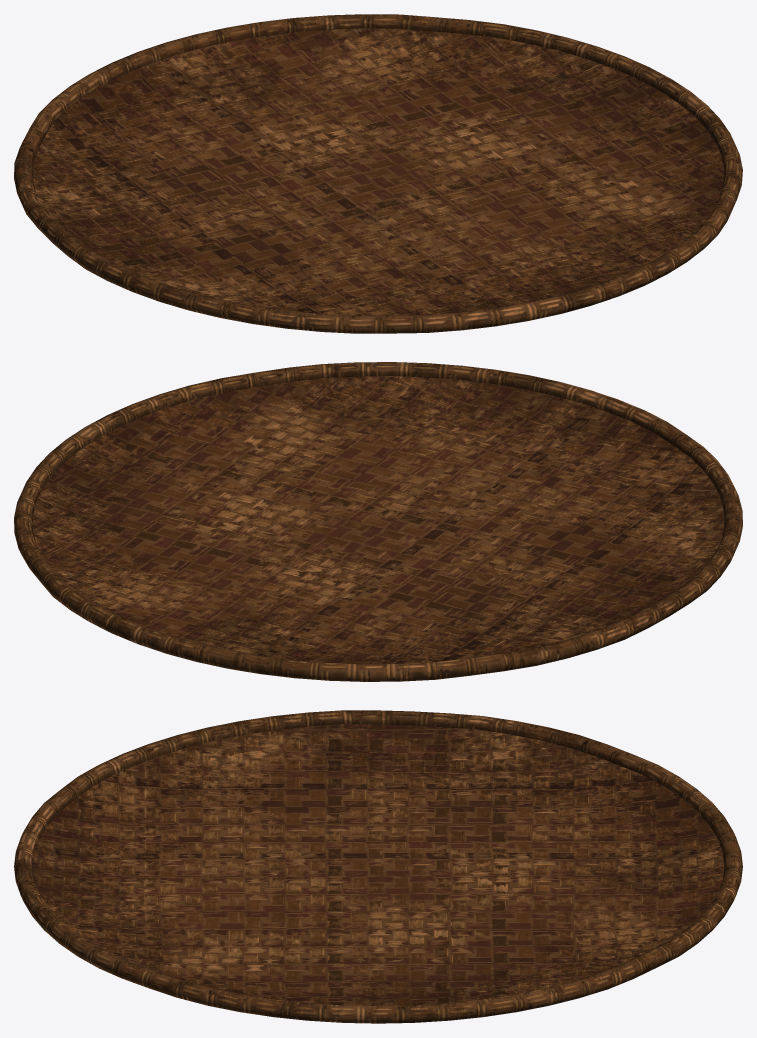
File: altarTalam.FBX
The picture shows the model from 3 angles, top to bottom: view 1: azimuth 30°, elevation 25°; view 2: azimuth 150°, elevation 25°; view 3: azimuth 270°, elevation 25°; orthographic projection.
Visible parts, largest first — view 1: altarTalam; view 2: altarTalam; view 3: altarTalam.
Boxes of the visible parts, x1,y1,x2,y2 form: altarTalam: (14, 14, 742, 333); altarTalam: (14, 362, 742, 681); altarTalam: (14, 710, 742, 1023).
Size of the model in its own units: 142 by 4.95 by 144.
